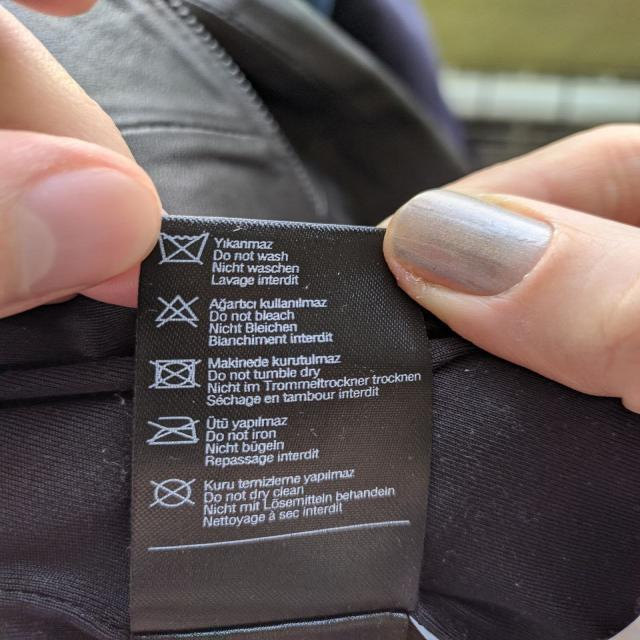DN_bleach: (155, 291, 200, 329)
DN_dry_clean: (149, 475, 198, 510)
DN_iron: (145, 414, 201, 447)
DN_tumble_dry: (148, 355, 201, 390)
DN_wash: (159, 228, 211, 267)
